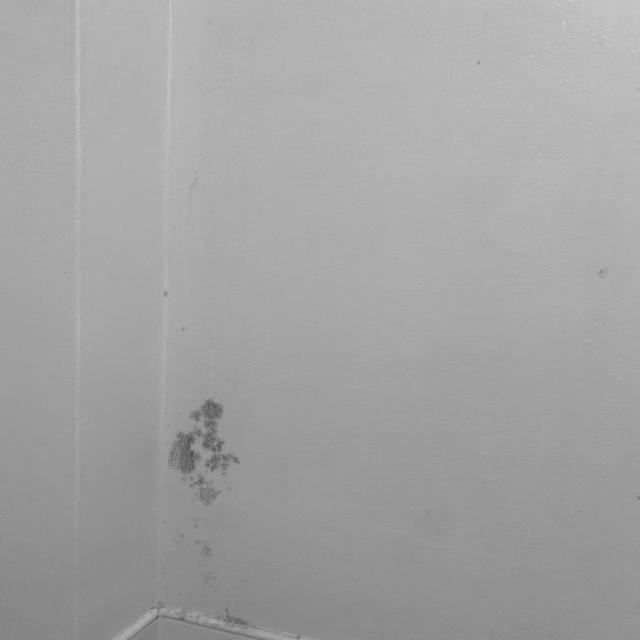stain marks: (160, 382, 272, 632), (397, 498, 471, 558), (160, 278, 198, 349), (174, 172, 213, 235), (580, 252, 624, 294), (466, 52, 495, 82)
